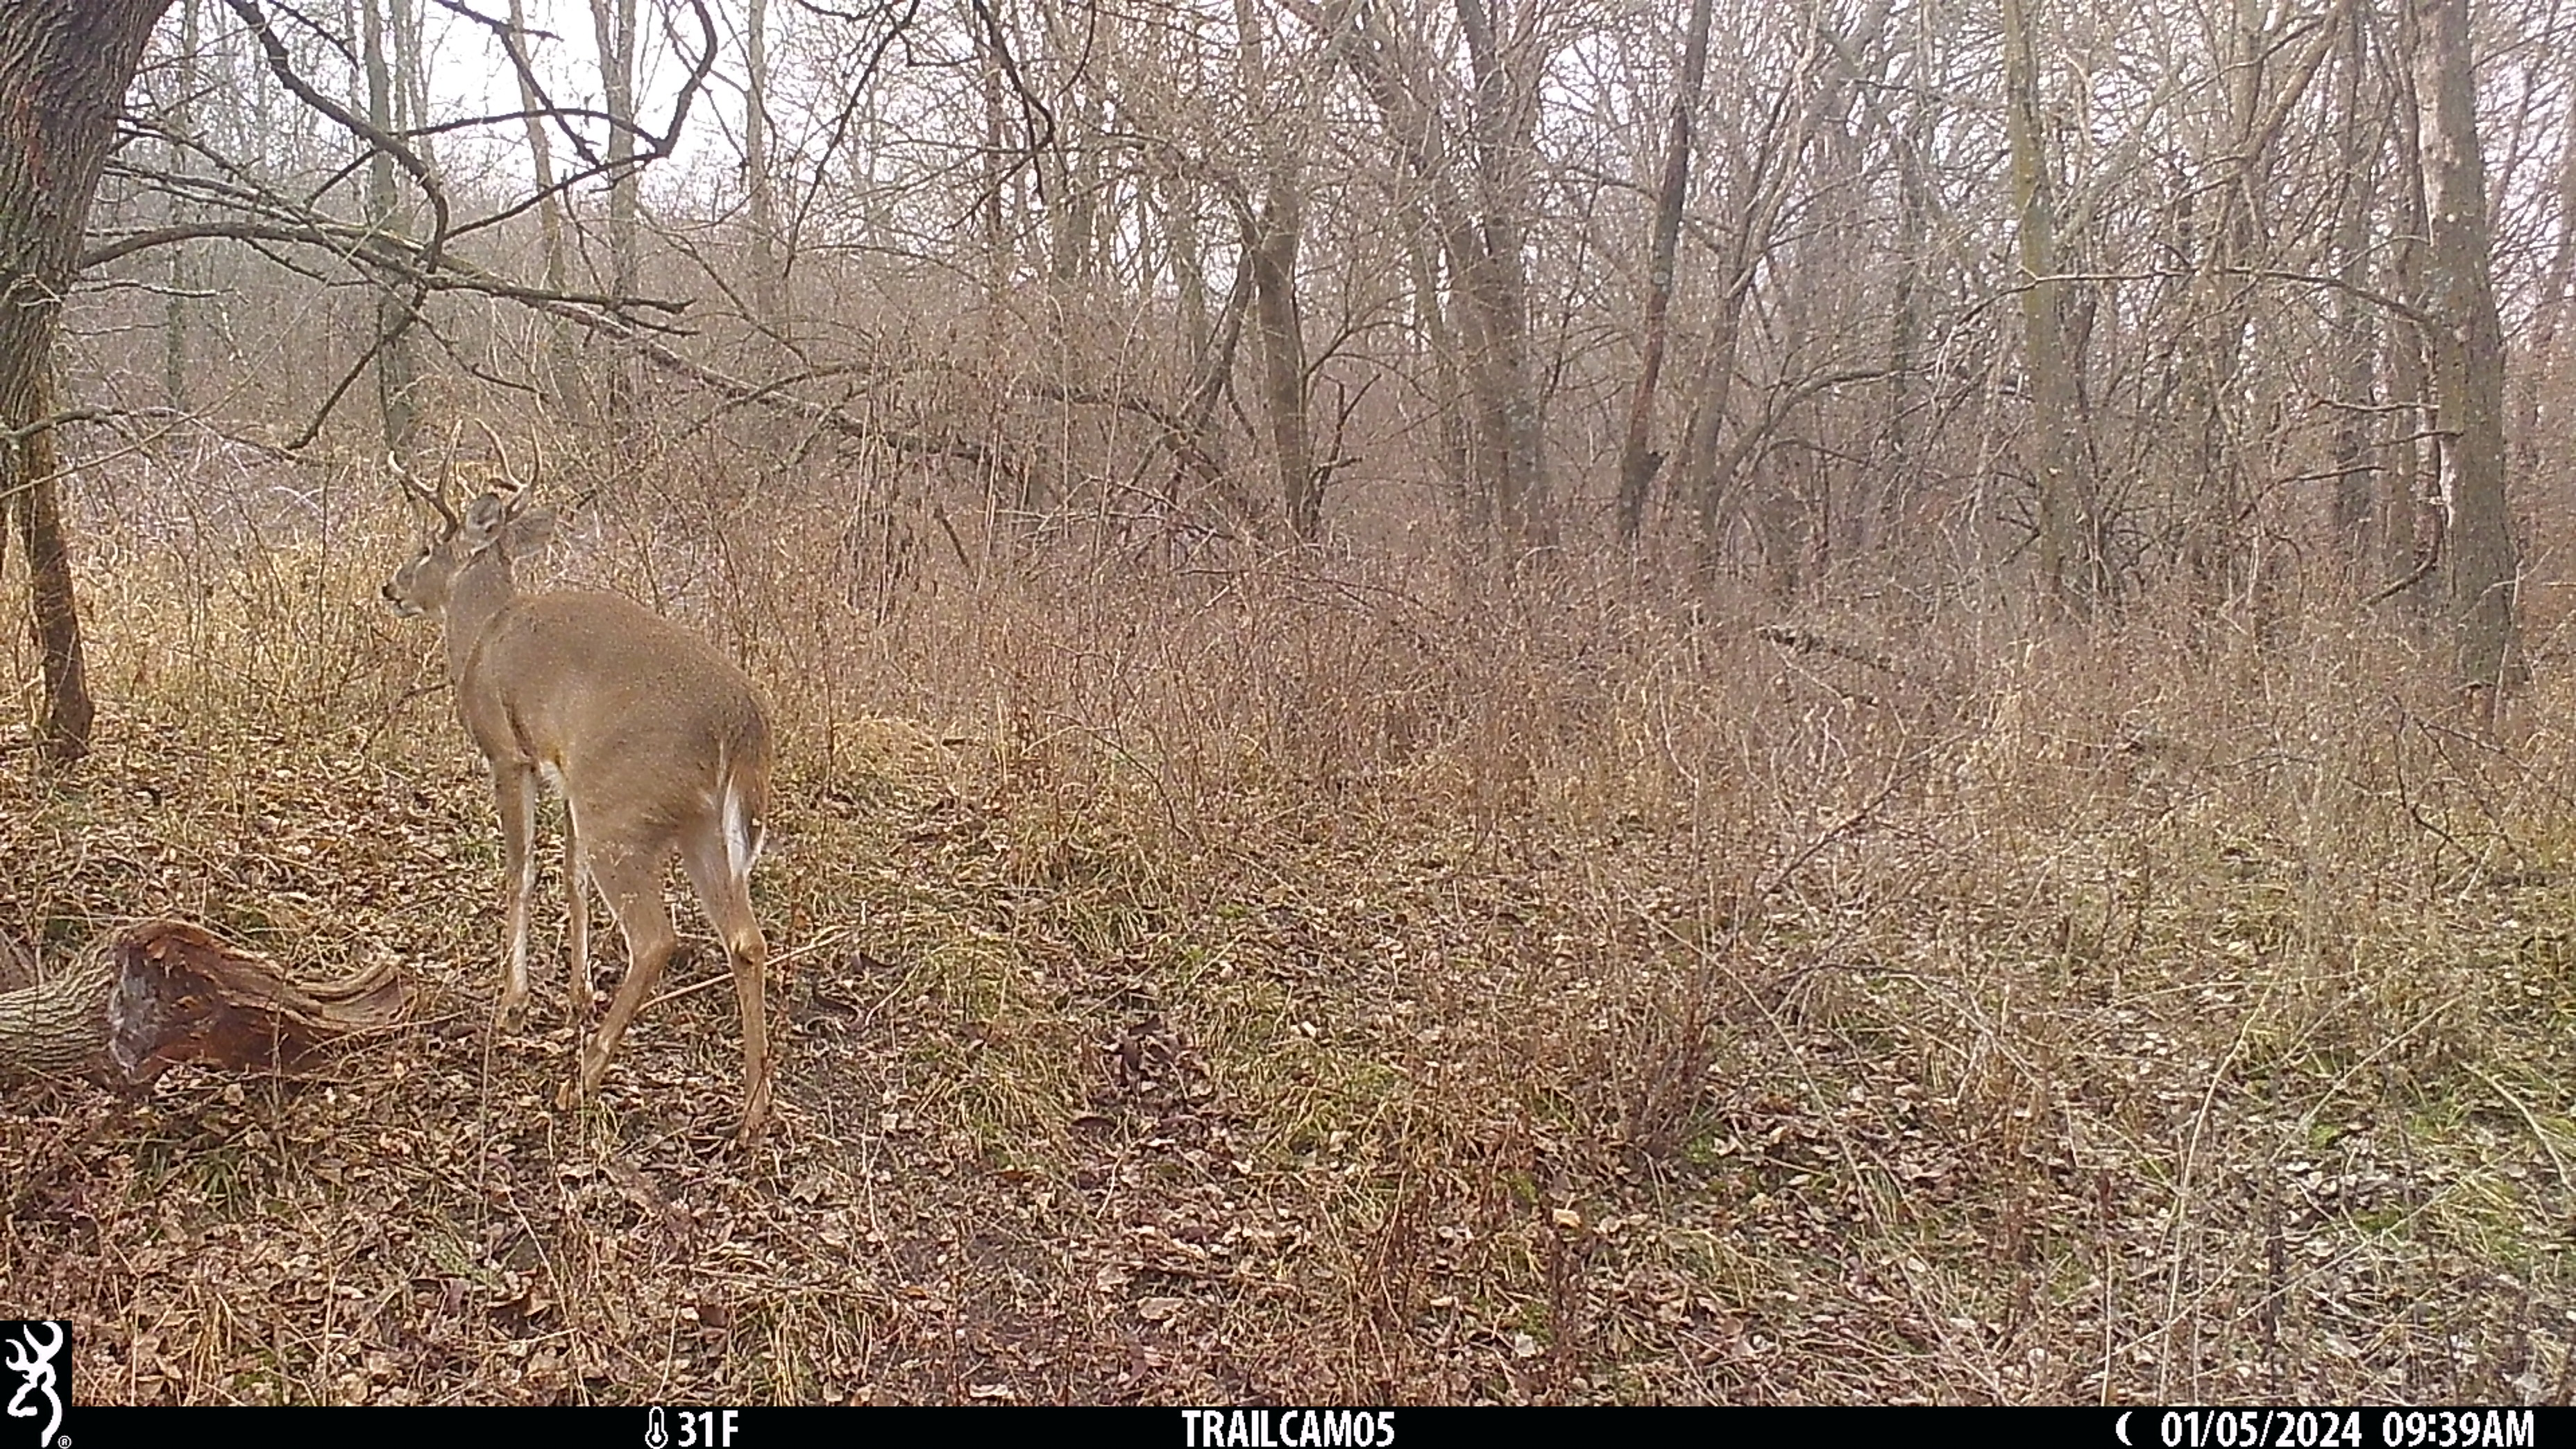DeerBuck: (377, 414, 779, 1132)
DeerBuckHead: (379, 414, 554, 612)
